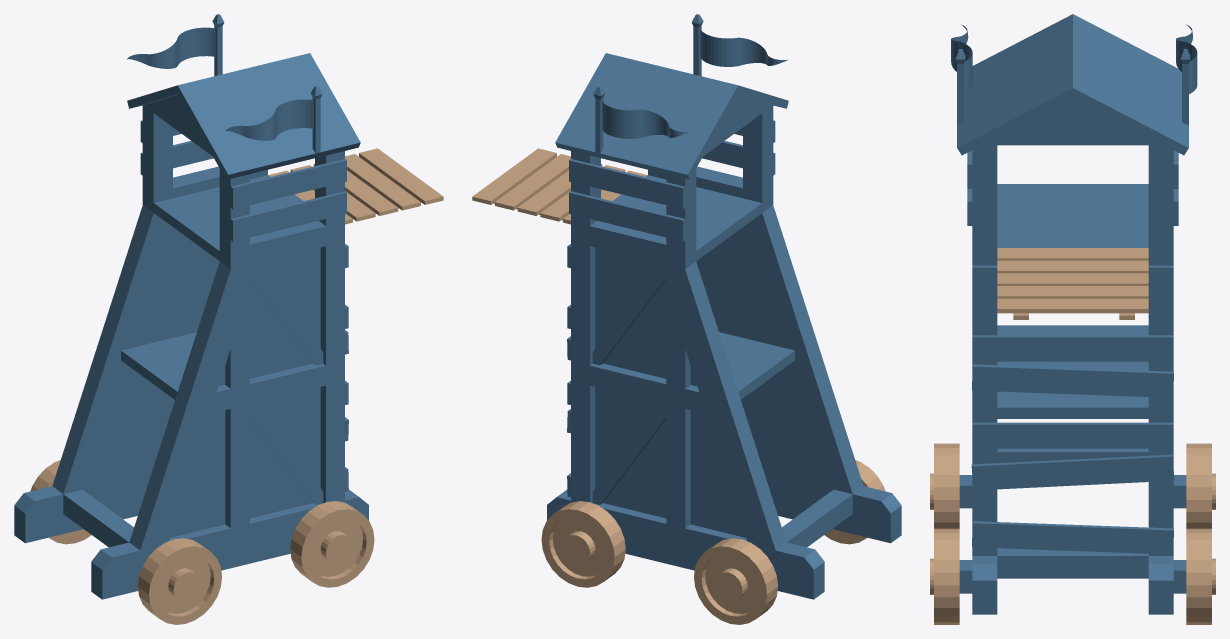
The model's file is siegetower.glb.
3 views of the same model, side by side, from view 1: azimuth 30°, elevation 25°; view 2: azimuth 150°, elevation 25°; view 3: azimuth 270°, elevation 25° (orthographic). The views are drawn at different scales.
Visible parts, largest first — view 1: body 8, wheelBackRight 10, wheelFrontRight 13, bridge 4, flag 25, flag 24, wheelBackLeft 10; view 2: body 8, wheelBackLeft 10, wheelFrontLeft 13, bridge 4, flag 24, flag 25, wheelBackRight 10; view 3: body 8, bridge 4, wheelFrontLeft 13, wheelFrontRight 13, wheelBackLeft 10, wheelBackRight 10, flag 25, flag 24.
Boxes of the visible parts, x1,y1,x2,y2 form: body 8: [14, 53, 368, 599]; wheelBackRight 10: [137, 538, 221, 624]; wheelFrontRight 13: [290, 501, 374, 587]; bridge 4: [268, 148, 443, 224]; flag 25: [225, 86, 322, 153]; flag 24: [127, 14, 224, 76]; wheelBackLeft 10: [30, 460, 91, 544]; body 8: [547, 53, 901, 599]; wheelBackLeft 10: [694, 538, 778, 624]; wheelFrontLeft 13: [541, 501, 625, 587]; bridge 4: [472, 148, 647, 224]; flag 24: [593, 86, 689, 153]; flag 25: [691, 14, 788, 76]; wheelBackRight 10: [824, 460, 885, 544]; body 8: [957, 14, 1188, 614]; bridge 4: [997, 248, 1148, 319]; wheelFrontLeft 13: [1186, 528, 1215, 624]; wheelFrontRight 13: [930, 528, 959, 624]; wheelBackLeft 10: [1186, 443, 1215, 528]; wheelBackRight 10: [930, 443, 959, 528]; flag 25: [951, 24, 972, 125]; flag 24: [1176, 24, 1197, 125].
Bounding box in the file's own units: 19.62 × 25.98 × 11.91.
